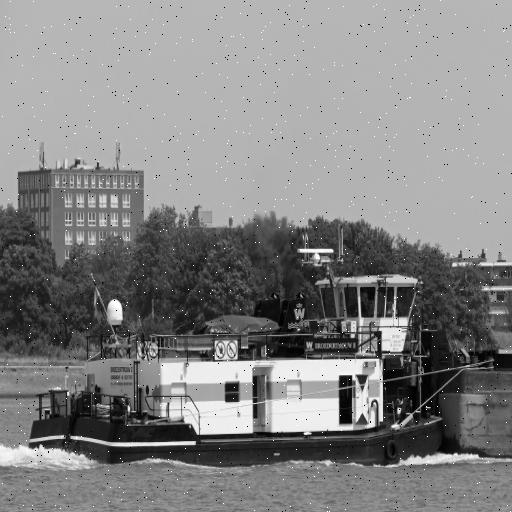tugboat: (20, 246, 448, 474)
